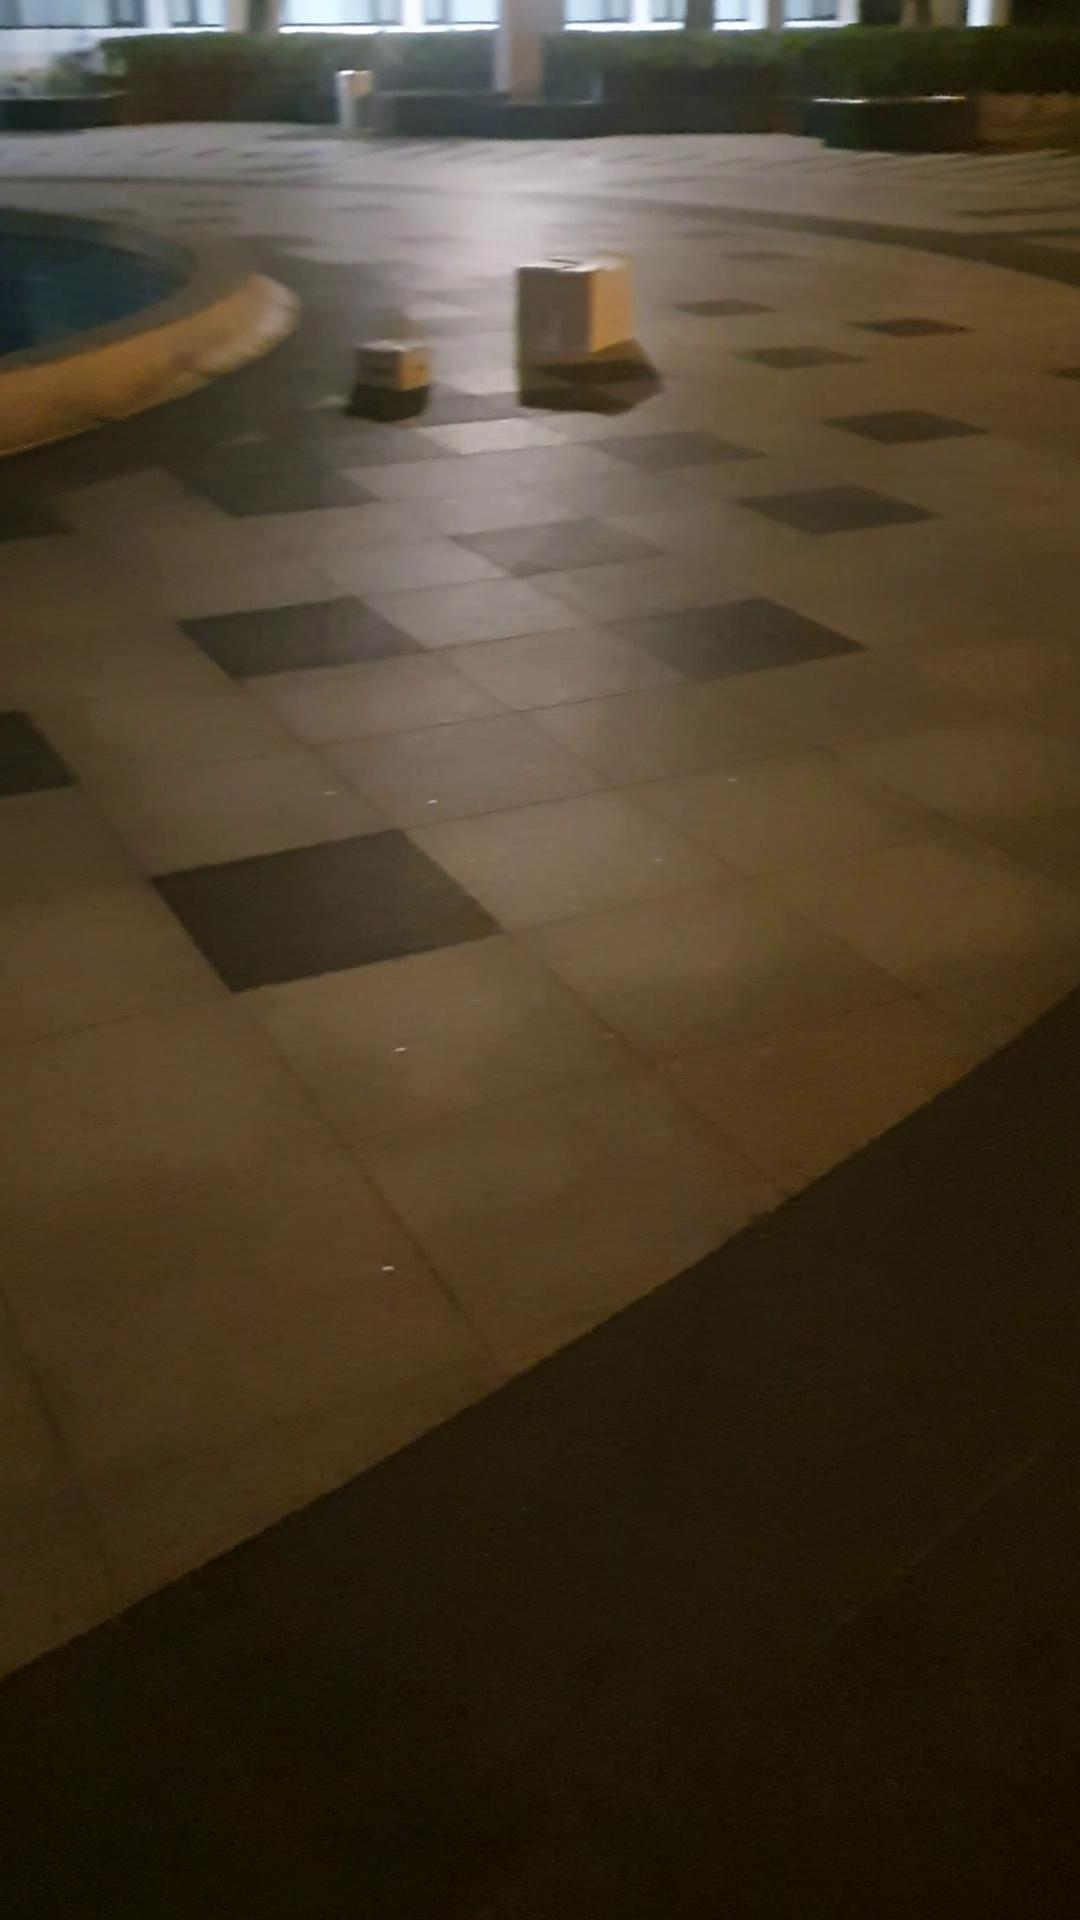Box: (521, 248, 645, 367), (353, 335, 440, 392)
